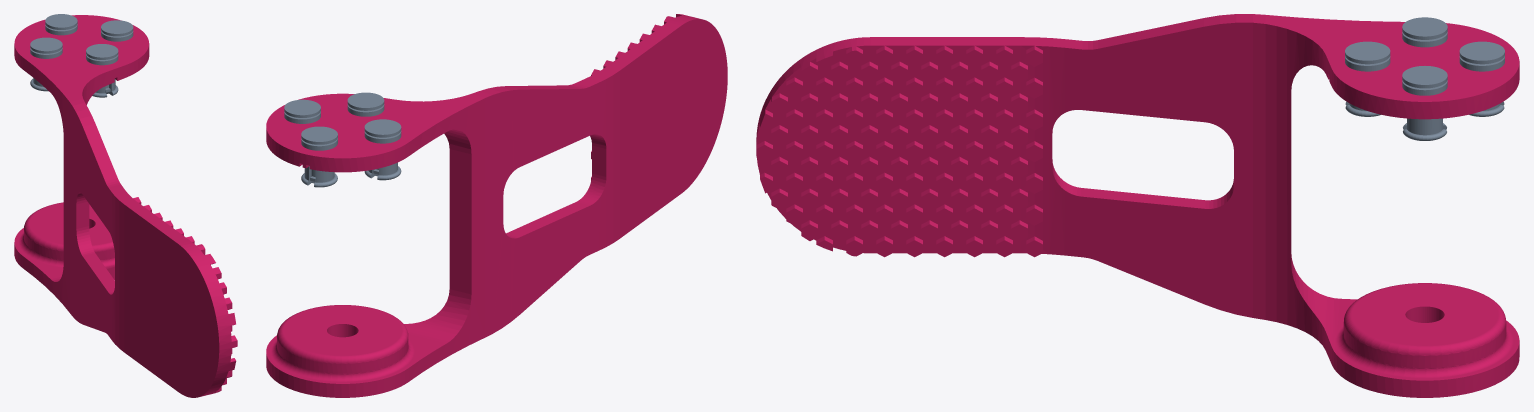
File: gripper.dae
The picture shows the model from 3 angles, left to right: view 1: azimuth 30°, elevation 25°; view 2: azimuth 150°, elevation 25°; view 3: azimuth 270°, elevation 25°; orthographic projection. The views are drawn at different scales.
Parts seen in each view (by area): view 1: gripper_004_rotative_part, gripper_008_insert, gripper_005_insert, gripper_003_insert, gripper_001_insert, gripper_007_base, gripper_006_base; view 2: gripper_004_rotative_part, gripper_000_base, gripper_001_insert, gripper_006_base, gripper_005_insert, gripper_008_insert, gripper_003_insert; view 3: gripper_004_rotative_part, gripper_002_base, gripper_001_insert, gripper_008_insert, gripper_003_insert, gripper_005_insert.
Part boxes in pixels (x1,y1,x2,y2): gripper_004_rotative_part: [14, 15, 237, 397]; gripper_008_insert: [86, 44, 118, 93]; gripper_005_insert: [30, 37, 62, 53]; gripper_003_insert: [101, 20, 133, 36]; gripper_001_insert: [45, 14, 77, 29]; gripper_007_base: [86, 54, 118, 97]; gripper_006_base: [30, 48, 62, 91]; gripper_004_rotative_part: [266, 14, 727, 397]; gripper_000_base: [301, 138, 337, 187]; gripper_001_insert: [301, 126, 337, 183]; gripper_006_base: [364, 131, 401, 180]; gripper_005_insert: [364, 119, 401, 176]; gripper_008_insert: [347, 92, 384, 110]; gripper_003_insert: [284, 99, 320, 117]; gripper_004_rotative_part: [756, 14, 1519, 397]; gripper_002_base: [1402, 80, 1447, 140]; gripper_001_insert: [1459, 41, 1504, 64]; gripper_008_insert: [1345, 41, 1390, 64]; gripper_003_insert: [1402, 66, 1447, 88]; gripper_005_insert: [1402, 17, 1447, 39].
Bounding box in the file's own units: 0.027 × 0.0799 × 0.0355.
